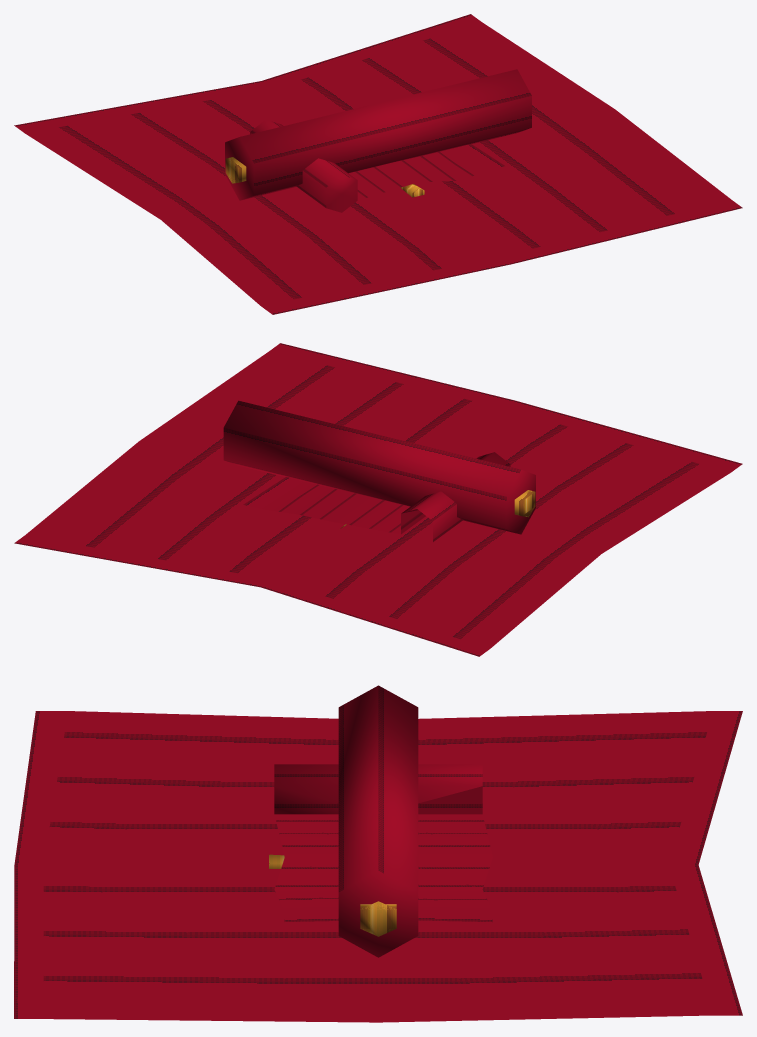
File: 5297ucc_nunoji00.gltf
The picture shows the model from 3 angles, top to bottom: view 1: azimuth 30°, elevation 25°; view 2: azimuth 150°, elevation 25°; view 3: azimuth 270°, elevation 25°; orthographic projection. The views are drawn at different scales.
Visible parts, largest first — view 1: 5297ucc_nunoji00; view 2: 5297ucc_nunoji00; view 3: 5297ucc_nunoji00.
Boxes of the visible parts, x1,y1,x2,y2 form: 5297ucc_nunoji00: (14, 14, 742, 314); 5297ucc_nunoji00: (14, 343, 742, 656); 5297ucc_nunoji00: (14, 685, 742, 1022).
Size of the model in its own units: 2.02 by 0.2949 by 2.
2 materials, 2 textured.
